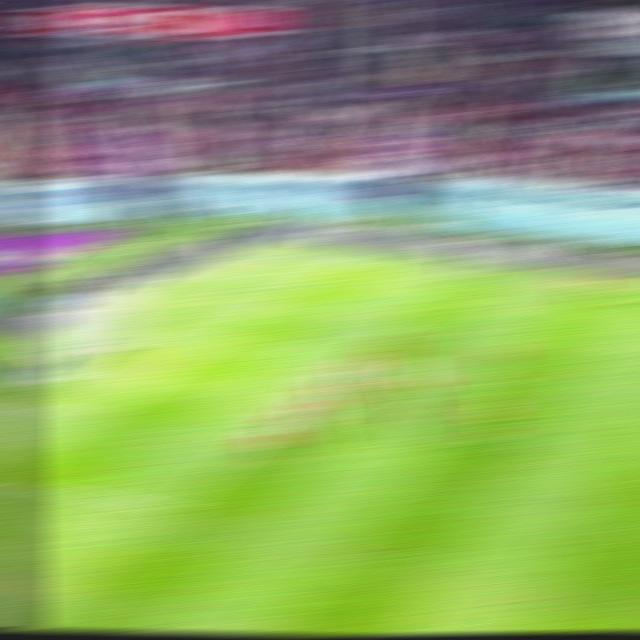bigarea_bottom_inner: (146, 494, 193, 520)
bigarea_top_inner: (380, 310, 417, 324)
bigarea_top_outter: (202, 287, 241, 301)
corner: (265, 254, 304, 266)
smallarea_bottom_inner: (76, 402, 119, 425)
smallarea_bottom_outter: (5, 395, 45, 413)
smallarea_top_inner: (200, 328, 240, 344)
smallarea_top_outter: (143, 321, 182, 335)
